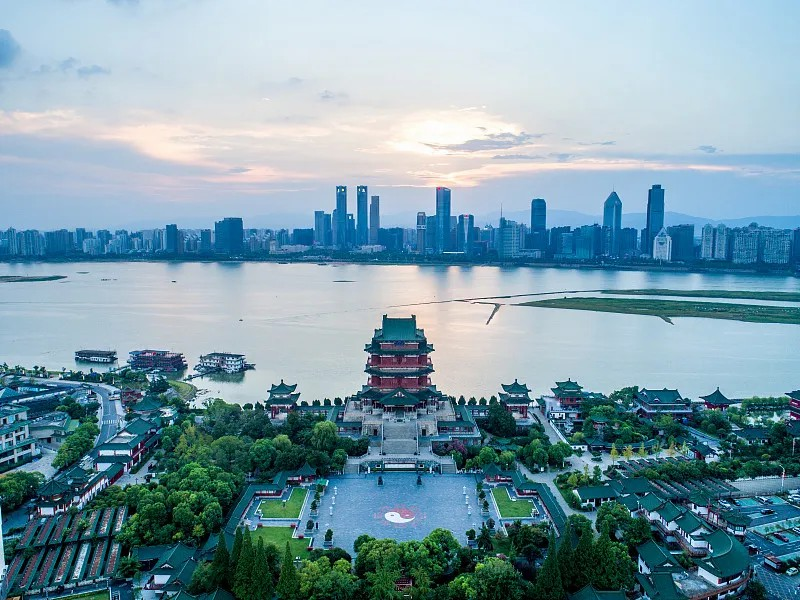Teng: (354, 315, 442, 412)
